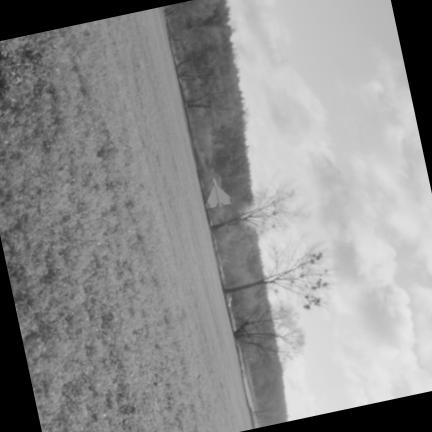Shahed: (206, 178, 233, 208)
